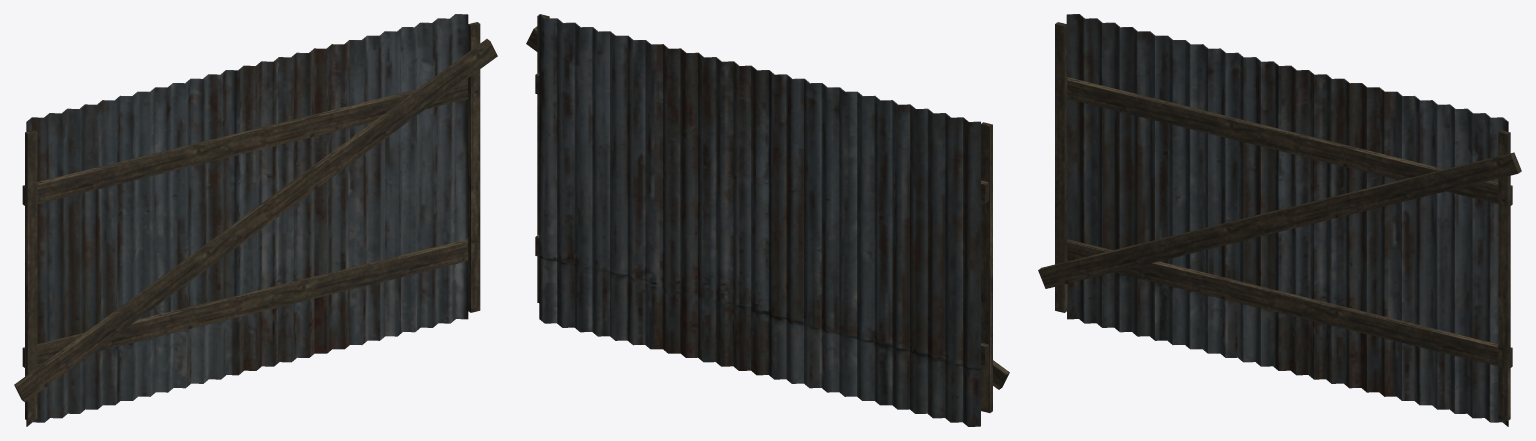
File: fence_b_1.obj
The picture shows the model from 3 angles, left to right: view 1: azimuth 30°, elevation 25°; view 2: azimuth 150°, elevation 25°; view 3: azimuth 330°, elevation 25°; orthographic projection.
Parts seen in each view (by area): view 1: fence_b_1; view 2: fence_b_1; view 3: fence_b_1.
Boxes of the visible parts, <box> form: fence_b_1: <box>14,14,497,426</box>; fence_b_1: <box>526,14,1009,426</box>; fence_b_1: <box>1038,14,1521,426</box>.
Bounding box in the file's own units: 4.03 × 2.44 × 0.1983.
